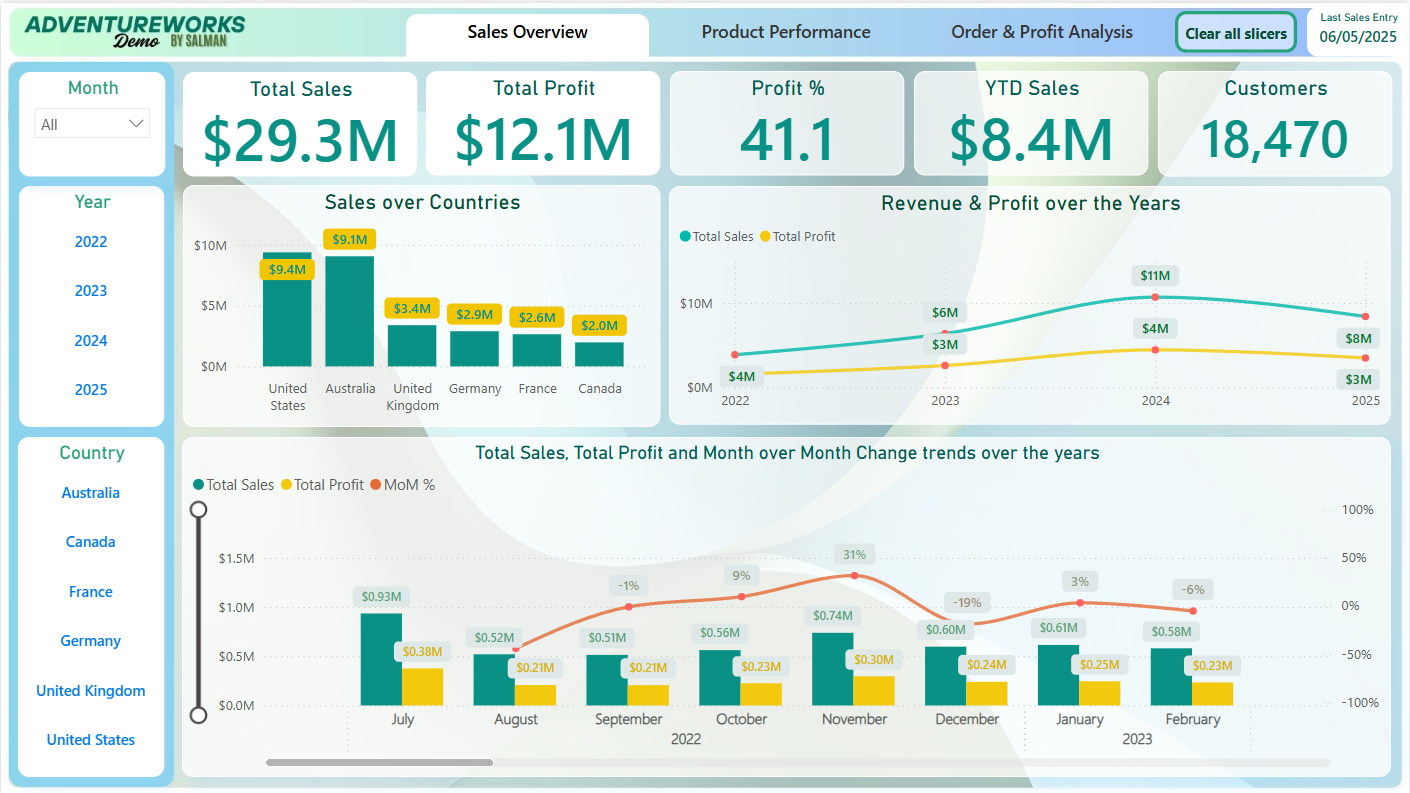

What the dashboard file says about the page in this screenshot:
{"tool":"powerbi","page":{"name":"Sales Overview ","canvas":[1280,720],"ordinal":0},"visuals":[{"type":"shape","box":[7.4,53.8,150.4,659],"z":0,"group":"g1"},{"type":"card","title":"YTD Sales","fields":{"Values":["_Mesures.YTD Sales"]},"box":[830.2,62.1,213,94.9],"z":0},{"type":"actionButton","title":"SalesOverviewButton","box":[368.2,10,221,40],"z":1000},{"type":"card","title":"Total Sales","fields":{"Values":["_Mesures.Total Sales"]},"box":[165,63,213,94.9],"z":1000},{"type":"advancedSlicerVisual","title":"Year","fields":{"Values":["DimDate.CalendarYear"]},"box":[16.3,166.5,131.7,218.9],"z":1000,"group":"g1"},{"type":"card","title":"Profit %","fields":{"Values":["_Mesures.Profit%"]},"box":[608.5,62.1,213,94.9],"z":2000},{"type":"slicer","title":"Month","fields":{"Values":["DimDate.EnglishMonthName"]},"box":[16.1,62.5,133.2,95],"z":2000,"group":"g1"},{"type":"actionButton","title":"OnP Button","box":[836.4,10,220.2,40],"z":3000},{"type":"card","title":"Total Profit","fields":{"Values":["_Mesures.Total Discount"]},"box":[386.8,62.1,213,94.9],"z":3000},{"type":"advancedSlicerVisual","title":"Country","fields":{"Values":["DimCustomer.EnglishCountryRegionName"]},"box":[15.8,394.5,132.7,309.1],"z":3000,"group":"g1"},{"type":"lineClusteredColumnComboChart","title":"Total Sales, Total Profit and Month over Month Change trends over the years","fields":{"Y":["_Mesures.Total Sales","_Mesures.Total Profit"],"Category":["DimDate.CalendarYear","DimDate.EnglishMonthName"],"Y2":["_Mesures.MoMChange"]},"box":[164.9,394.6,1098.6,309.5],"z":4000},{"type":"actionButton","title":"PP Button","box":[603.3,10,220.2,40],"z":5000},{"type":"card","title":"Customers","fields":{"Values":["_Mesures.Customers"]},"box":[1052,62,213,95.8],"z":5000},{"type":"actionButton","title":"Slicer Button","box":[1067,7,111,38],"z":6000},{"type":"lineChart","title":"Revenue & Profit over the Years","fields":{"Category":["DimDate.CalendarYear"],"Y":["_Mesures.Total Sales","_Mesures.Total Profit"]},"box":[607,166.7,656.2,217.2],"z":6000},{"type":"clusteredColumnChart","title":"Sales over Countries","fields":{"Category":["DimCustomer.EnglishCountryRegionName"],"Y":["_Mesures.Total Sales"]},"box":[165,165.8,433.6,219.9],"z":7000},{"type":"group","id":"g1","title":"Group 1","box":[7.4,53.8,150.4,659],"z":9000},{"type":"card","title":"Latest Order*","fields":{"Values":["_Mesures.MaxDate"]},"box":[1187,4,93,45],"z":13000}]}

Visuals, with their boxes in screenshot pixels (x1, y1, x2, y2), scaled from the page's 1280x720 canvas onto the 1410x793 screenshot:
shape: [8,59,174,785]
"YTD Sales" card: [915,68,1149,173]
"SalesOverviewButton" actionButton: [406,11,649,55]
"Total Sales" card: [182,69,416,174]
"Year" advancedSlicerVisual: [18,183,163,424]
"Profit %" card: [670,68,905,173]
"Month" slicer: [18,69,164,173]
"OnP Button" actionButton: [921,11,1164,55]
"Total Profit" card: [426,68,661,173]
"Country" advancedSlicerVisual: [17,434,164,775]
"Total Sales, Total Profit and Month over Month Change trends over the years" lineClusteredColumnComboChart: [182,435,1392,775]
"PP Button" actionButton: [665,11,907,55]
"Customers" card: [1159,68,1393,174]
"Slicer Button" actionButton: [1175,8,1298,50]
"Revenue & Profit over the Years" lineChart: [669,184,1391,423]
"Sales over Countries" clusteredColumnChart: [182,183,659,425]
"Group 1" group: [8,59,174,785]
"Latest Order*" card: [1308,4,1409,54]
